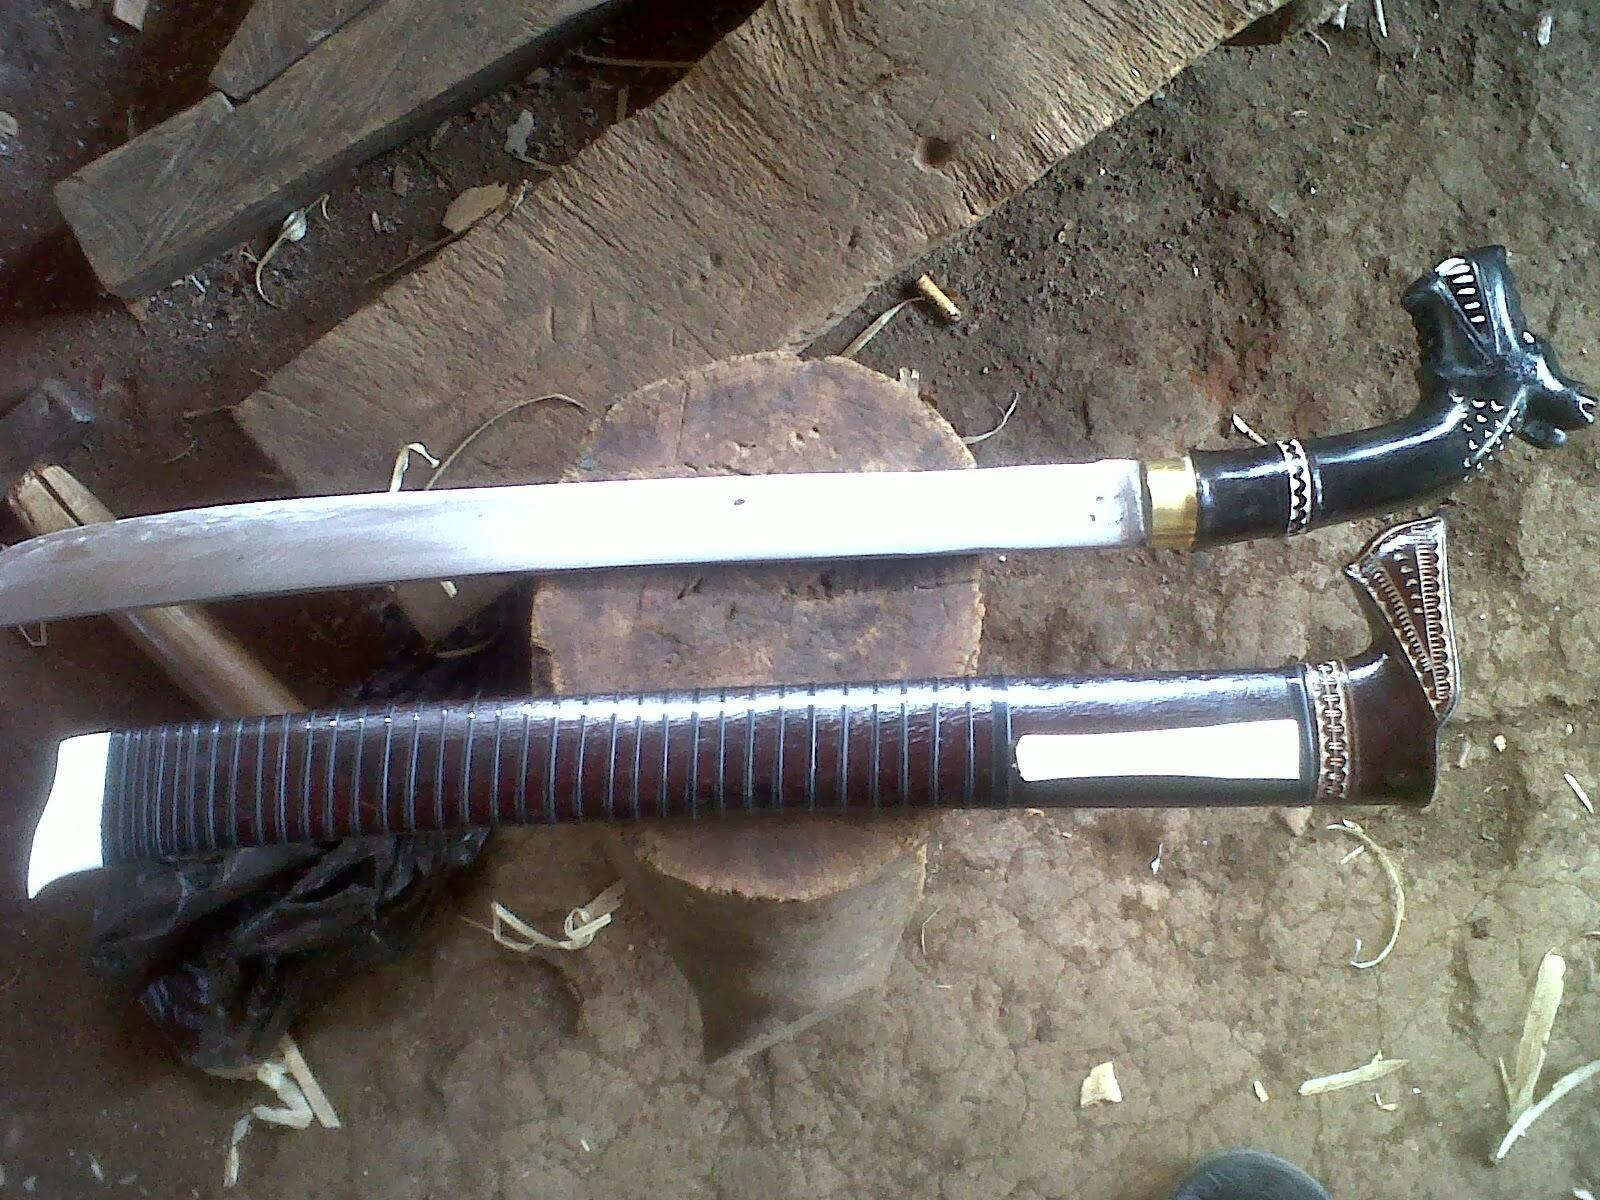facao: (0, 364, 1482, 606)
